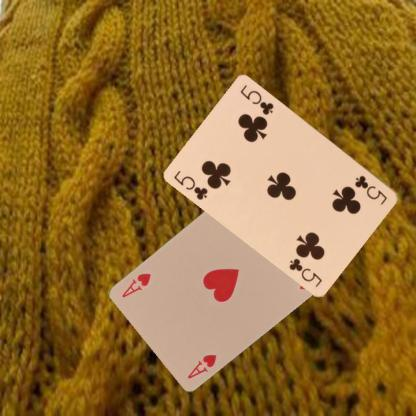5c: (352, 173, 389, 206), (172, 168, 209, 201)
Ah: (184, 352, 218, 381)
